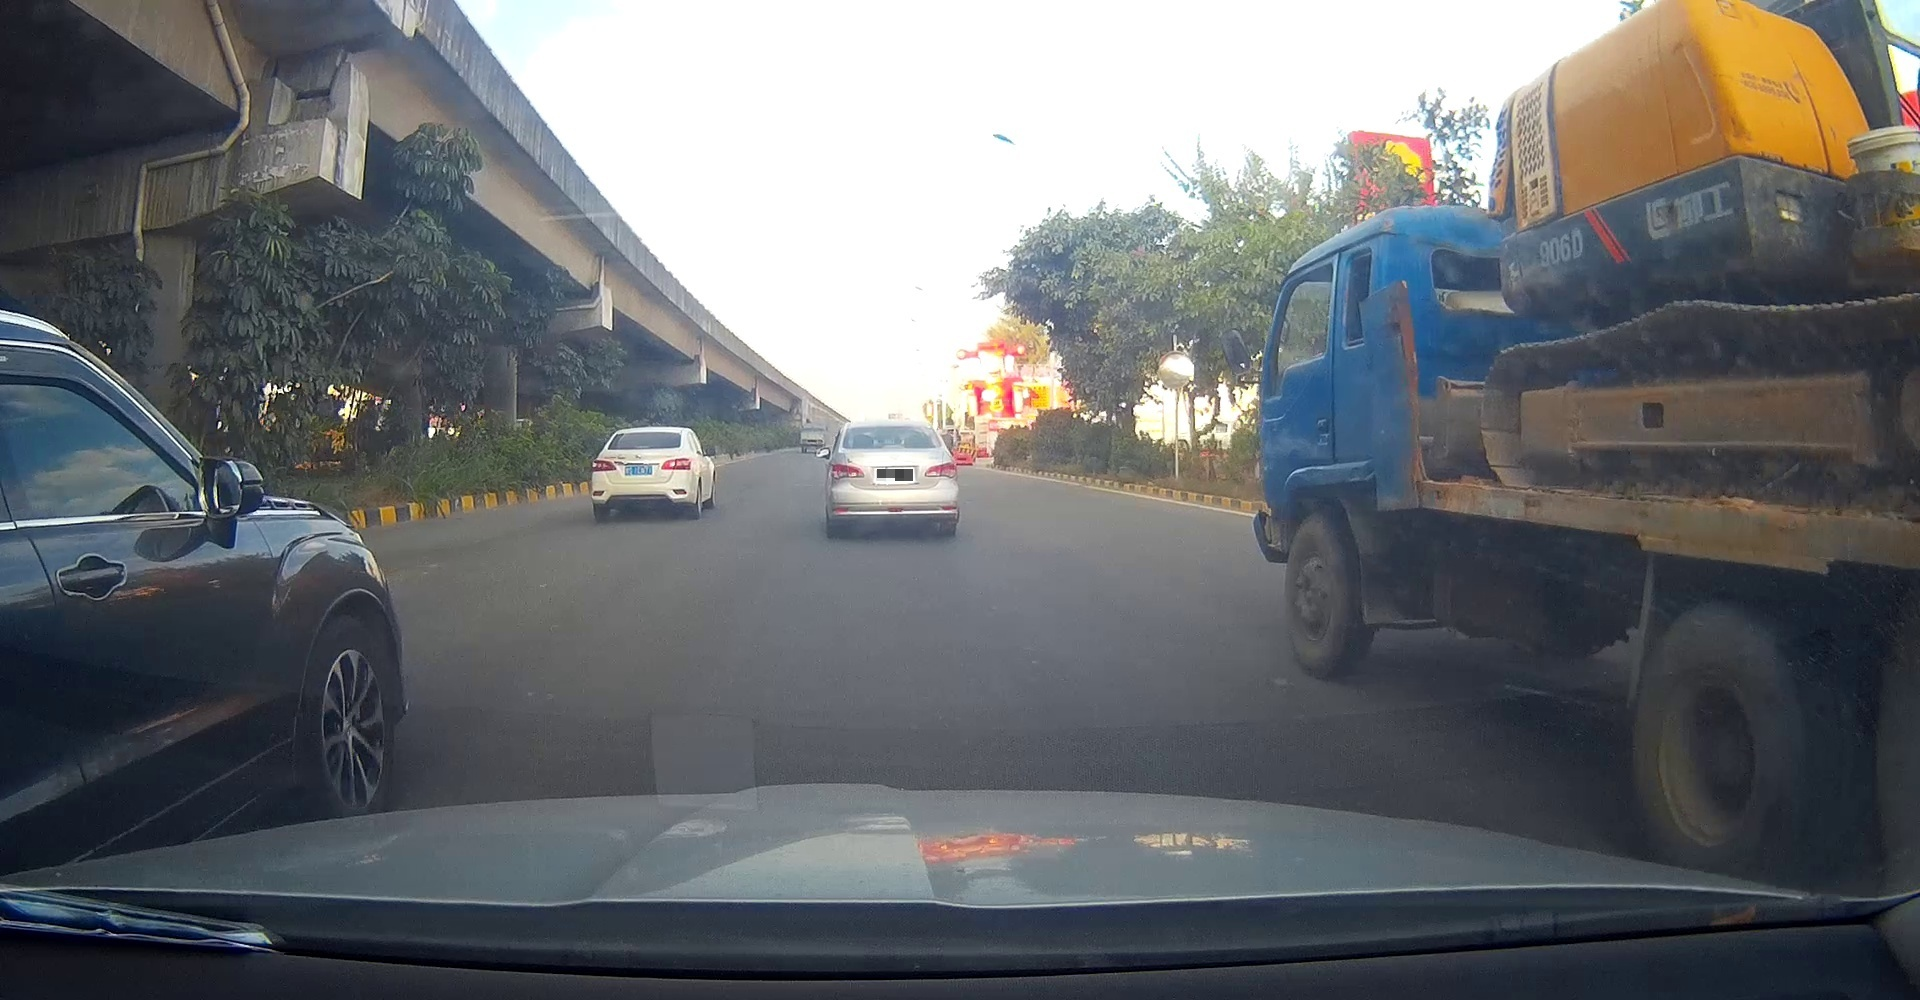L_light: (832, 464, 865, 480), (590, 459, 616, 472)
R_light: (924, 461, 957, 478), (662, 458, 692, 471)
T_light: (883, 444, 903, 448), (632, 445, 651, 449)
day-no: (829, 420, 957, 536), (590, 429, 697, 522)
plate_1: (877, 470, 913, 481)
